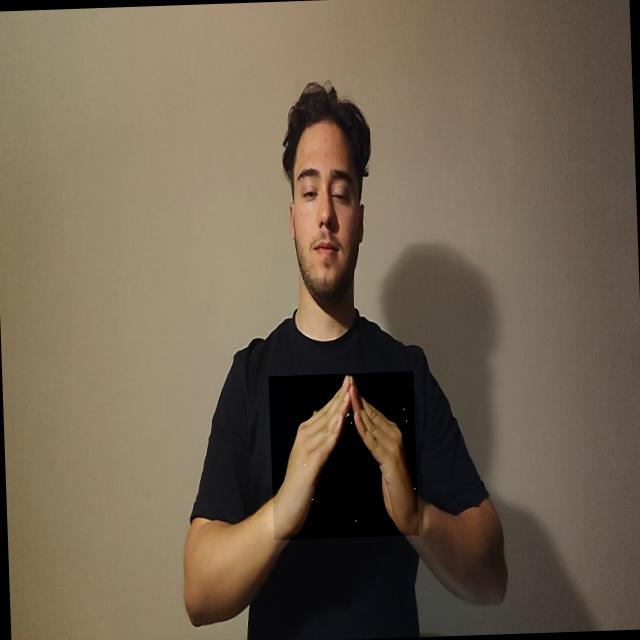house: (267, 371, 418, 540)
